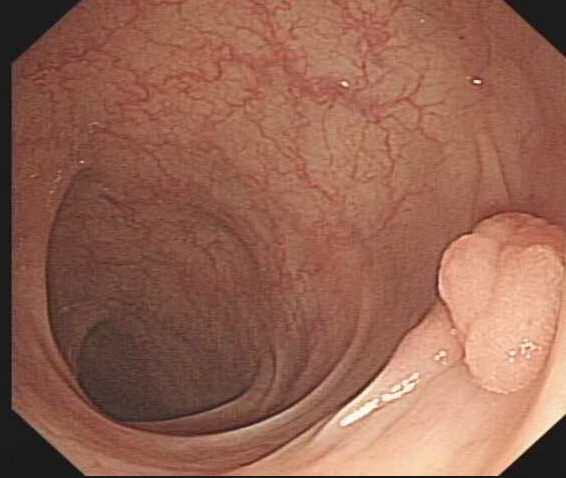others: (434, 208, 563, 397)
